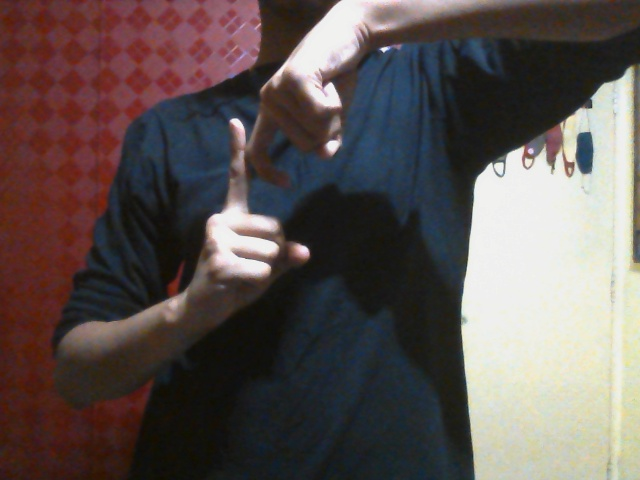K: (181, 71, 381, 314)
